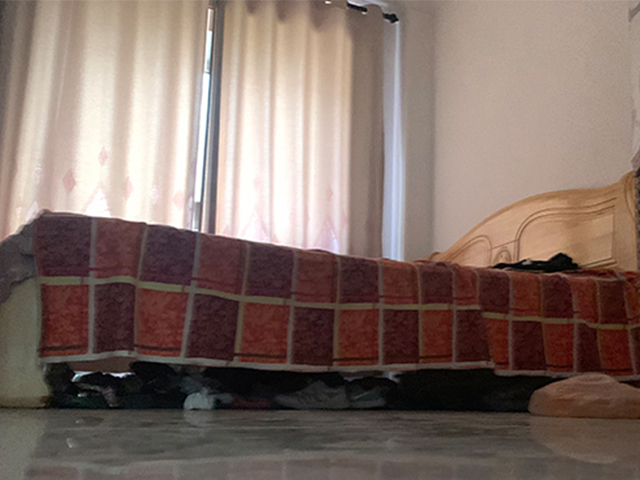bed: (1, 168, 640, 409)
curtain: (4, 2, 205, 235), (210, 1, 381, 250)
